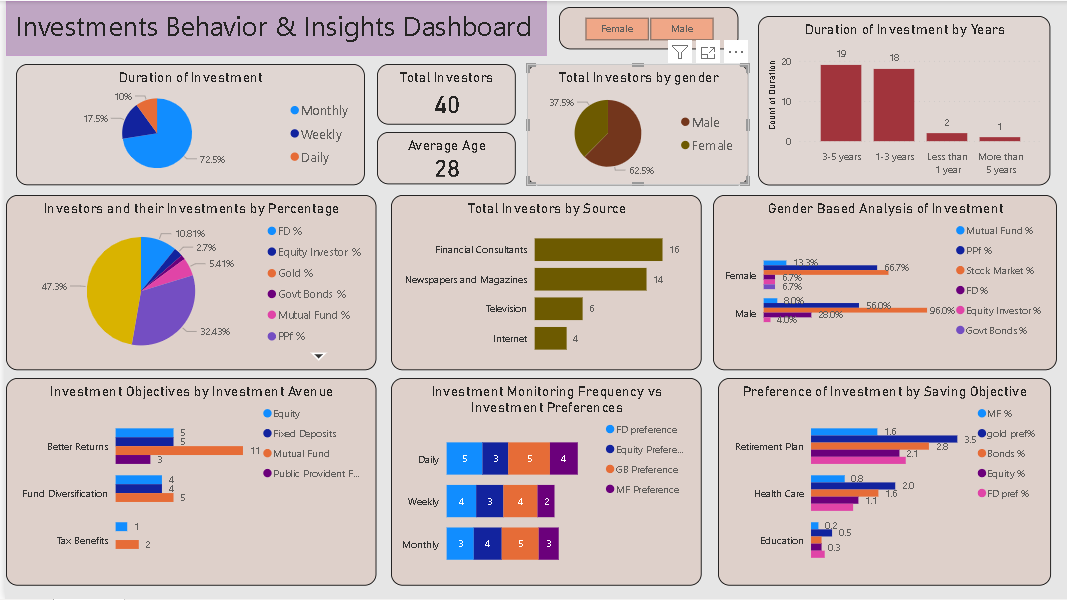

The page's visual inventory and layout, read from the dashboard file:
{"tool":"powerbi","page":{"name":"task 7","canvas":[1280,720],"ordinal":0},"visuals":[{"type":"clusteredBarChart","title":"Gender Based Analysis of Investment","fields":{"Category":["task.gender"],"Y":["task.Mutual Fund %","task.PPf %","task.Stock Market %","task.FD %","task.Equity Investor %","task.Govt Bonds %"]},"box":[852,234,414.3,210.6],"z":0},{"type":"card","title":"Total Investors","fields":{"Values":["task.Total Individuals"]},"box":[447.3,75.7,166.5,72.9],"z":1000},{"type":"pieChart","title":"Total Investors by gender","fields":{"Category":["task.gender"],"Y":["task.Total Individuals"]},"box":[629,75.7,267,145.9],"z":2000},{"type":"barChart","title":"Total Investors by Source","fields":{"Category":["task.Source"],"Y":["task.Total Individuals"]},"box":[465.2,234,374.4,210.6],"z":3000},{"type":"clusteredBarChart","title":" Investment Objectives by  Investment Avenue","fields":{"Y":["task.Total Individuals"],"Series":["task.Avenue"],"Category":["task.Reason_Mutual"]},"box":[1.4,454.2,445.9,250.5],"z":4000},{"type":"barChart","title":"Investment Monitoring Frequency vs Investment Preferences","fields":{"Y":["task.FD preference","task.Equity Preference","task.GB Preference","task.MF Preference"],"Category":["task.Invest_Monitor"]},"box":[465.2,454.2,374.4,250.5],"z":5000},{"type":"clusteredColumnChart","title":"Duration of Investment by Years","fields":{"Category":["task.Duration"],"Y":["CountNonNull(task.Duration)"]},"box":[907,17.9,352.3,203.7],"z":6000},{"type":"pieChart","title":"Duration of Investment","fields":{"Category":["task.Invest_Monitor"],"Y":["CountNonNull(task.Invest_Monitor)"]},"box":[13.8,75.7,419.8,145.9],"z":7000},{"type":"clusteredBarChart","title":"Preference of Investment by Saving Objective","fields":{"Category":["task.What are your savings objectives?"],"Y":["task.MF %","task.gold pref%","task.Bonds %","task.Equity %","task.FD pref %"]},"box":[858.8,454.2,400.5,250.5],"z":8000},{"type":"pieChart","title":"Investors and their Investments by Percentage","fields":{"Y":["task.FD %","task.Equity Investor %","task.Gold %","task.Govt Bonds %","task.Mutual Fund %","task.PPf %","task.Stock Market %"]},"box":[1.4,234,445.9,210.6],"z":9000},{"type":"textbox","box":[1.4,0,651,66.1],"z":10000},{"type":"card","title":"Average Age","fields":{"Values":["task.Average Age"]},"box":[447.3,158.3,166.5,63.3],"z":11000},{"type":"slicer","fields":{"Values":["task.gender"]},"box":[667.5,6.9,216.1,50.9],"z":12000}]}

Visuals, with their boxes in screenshot pixels (x1, y1, x2, y2), scaled from the page's 1280x720 canvas onto the 1067x600 screenshot:
"Gender Based Analysis of Investment" clusteredBarChart: crop(710, 195, 1056, 371)
"Total Investors" card: crop(373, 63, 512, 124)
"Total Investors by gender" pieChart: crop(524, 63, 747, 185)
"Total Investors by Source" barChart: crop(388, 195, 700, 371)
" Investment Objectives by  Investment Avenue" clusteredBarChart: crop(1, 378, 373, 587)
"Investment Monitoring Frequency vs Investment Preferences" barChart: crop(388, 378, 700, 587)
"Duration of Investment by Years" clusteredColumnChart: crop(756, 15, 1050, 185)
"Duration of Investment" pieChart: crop(12, 63, 361, 185)
"Preference of Investment by Saving Objective" clusteredBarChart: crop(716, 378, 1050, 587)
"Investors and their Investments by Percentage" pieChart: crop(1, 195, 373, 371)
textbox: crop(1, 0, 544, 55)
"Average Age" card: crop(373, 132, 512, 185)
slicer - task.gender: crop(556, 6, 737, 48)
